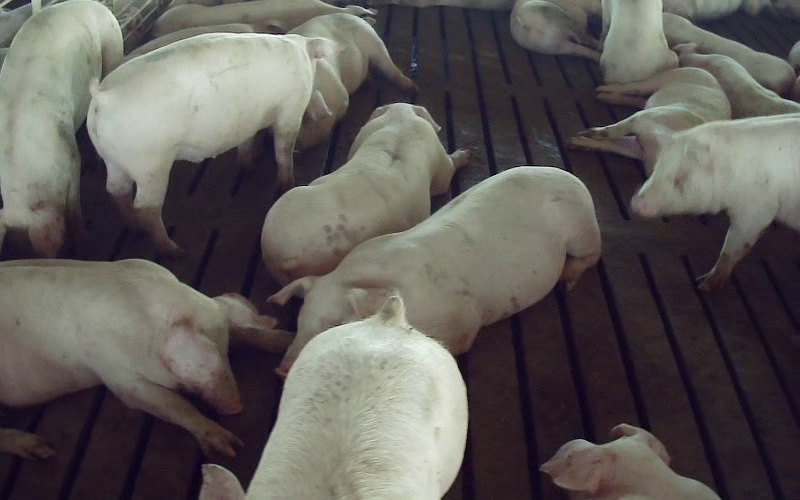pig: (270, 168, 600, 374), (200, 295, 466, 499), (261, 103, 468, 283), (632, 113, 799, 289), (569, 68, 730, 175), (663, 13, 795, 93), (674, 43, 799, 118), (600, 0, 677, 83)
